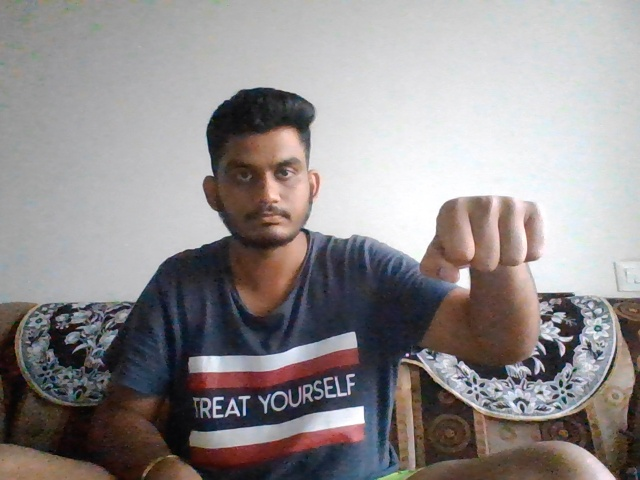Yes: (415, 191, 560, 289)
